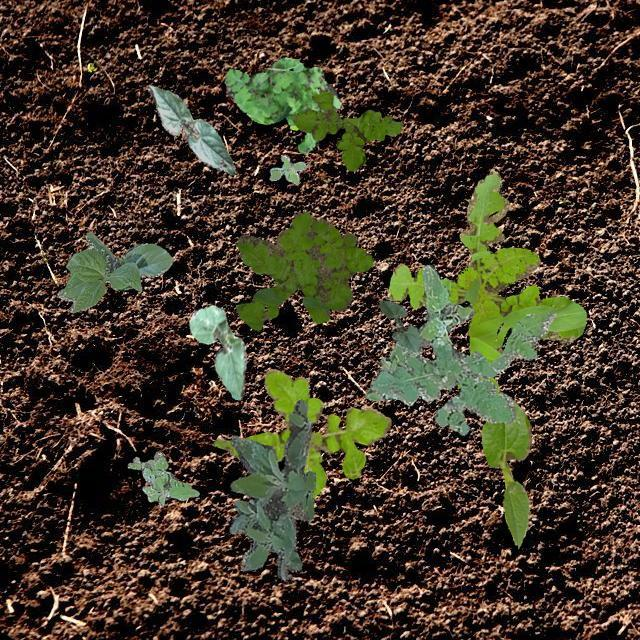crop: (56, 230, 172, 312), (147, 84, 236, 174), (480, 400, 530, 548), (190, 304, 246, 398), (378, 300, 418, 350)
weed: (387, 170, 586, 392), (212, 368, 390, 498), (370, 311, 554, 434), (235, 210, 372, 330), (228, 398, 314, 578), (364, 264, 474, 399), (223, 56, 339, 152), (292, 90, 402, 170), (126, 450, 198, 504), (268, 154, 306, 183)
